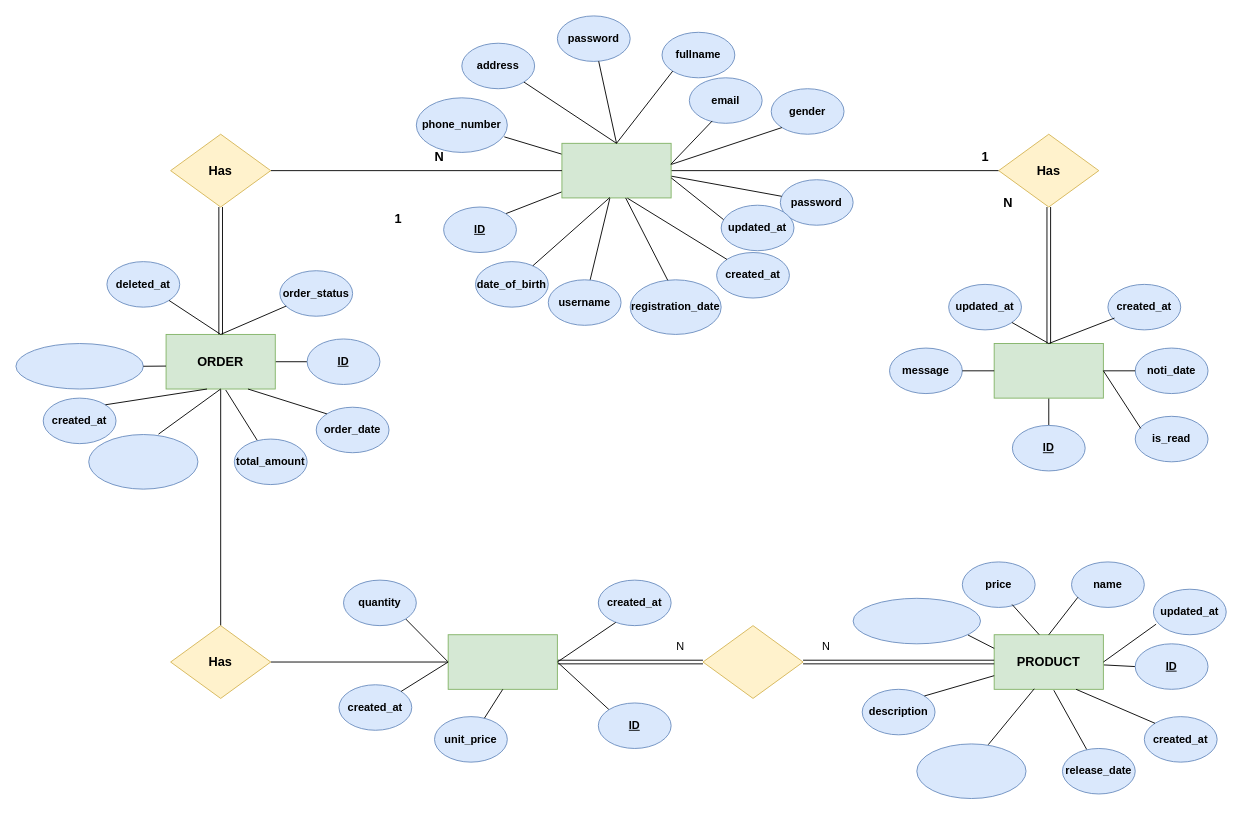
The diagram is 1242 pixels wide and 814 high, and some of its shapes have lost their labels. The shapes that lost their labels are listed below. From the top down, each one's box as (x1, y1, x2, y2) in pixels, then its label:
(561, 142, 671, 198): USER
(15, 343, 143, 389): shipping_address
(993, 343, 1103, 398): NOTIFICATION
(88, 434, 198, 489): payment_method
(852, 597, 981, 644): stock_quantity
(447, 634, 557, 689): ORDER DETAIL
(702, 625, 803, 698): INCLUDE
(916, 743, 1026, 799): manufacturer
